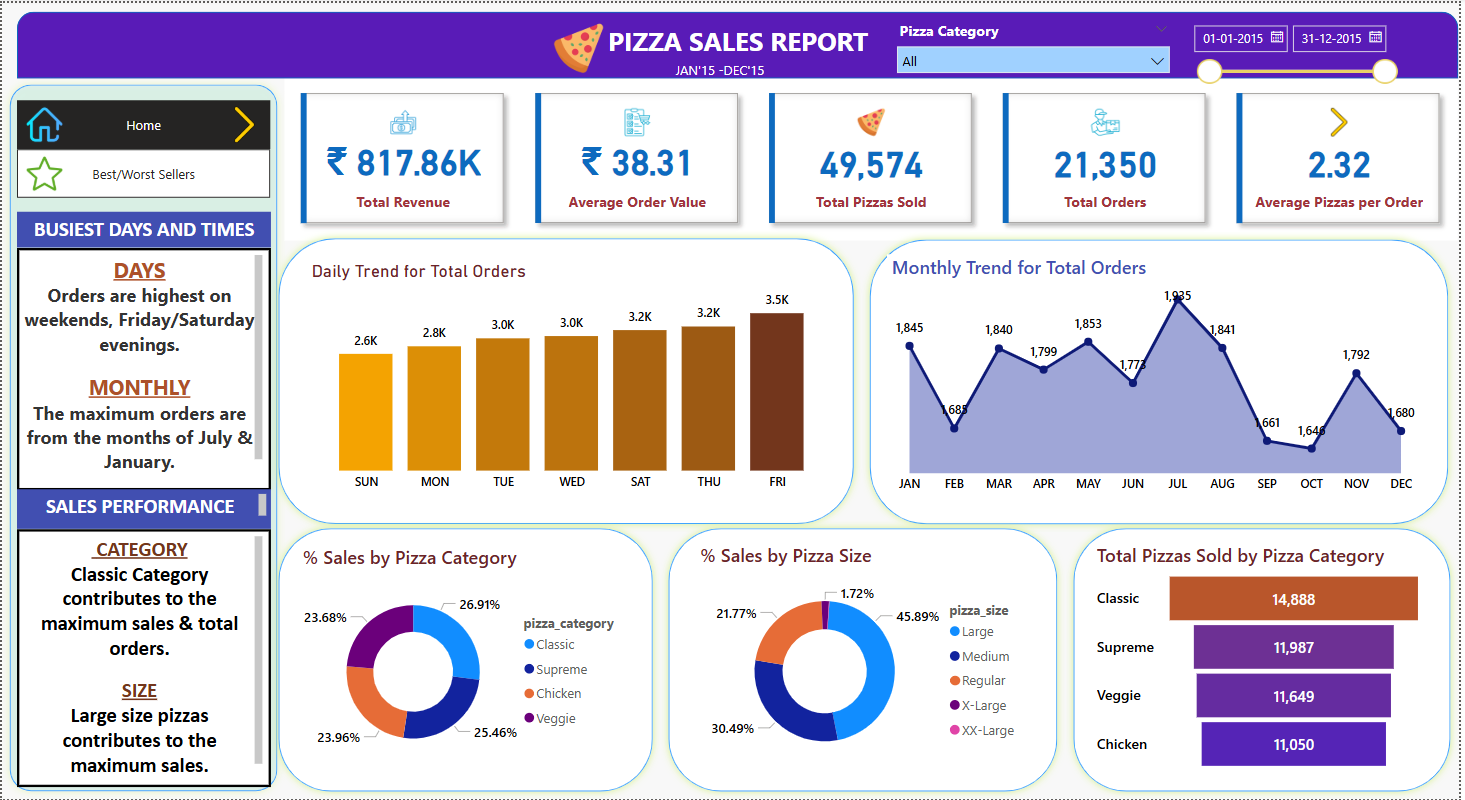

The page's visual inventory and layout, read from the dashboard file:
{"tool":"powerbi","page":{"name":"Home","canvas":[1500,820],"ordinal":0},"visuals":[{"type":"shape","box":[0,76.3,291.6,744],"z":0},{"type":"cardVisual","fields":{"Data":["pizzadb pizza_sales.Total Revenue","pizzadb pizza_sales.Average Order Value","pizzadb pizza_sales.Total Pizzas Sold","pizzadb pizza_sales.Total Orders","pizzadb pizza_sales.Average Pizzas per Order"]},"box":[291.6,76.3,1208.7,169],"z":1000},{"type":"shape","box":[15,8.8,1485,68.8],"z":2000},{"type":"textbox","box":[620,15,354.3,50.4],"z":3000},{"type":"textbox","box":[689.5,55.9,271.2,40.9],"z":4000},{"type":"image","box":[551.9,15,83.1,62.7],"z":5000},{"type":"shape","box":[276.6,234.4,609.1,310.7],"z":6000},{"type":"columnChart","title":"Daily Trend for Total Orders","fields":{"Category":["pizzadb pizza_sales.Order Day"],"Y":["pizzadb pizza_sales.Total Orders"]},"box":[314.8,265.7,546.4,246.6],"z":7000},{"type":"shape","box":[885.7,235.7,611.8,309.3],"z":8000},{"type":"areaChart","title":"Monthly Trend for Total Orders","fields":{"Y":["pizzadb pizza_sales.Total Orders"],"Category":["pizzadb pizza_sales.Order Month"]},"box":[911.6,258.9,553.2,254.8],"z":9000},{"type":"shape","box":[678.6,532.8,417,287.5],"z":10000},{"type":"shape","box":[276.6,532.8,402,287.5],"z":11000},{"type":"shape","box":[1095.6,532.8,404.7,287.5],"z":12000},{"type":"donutChart","title":"% Sales by Pizza Category","fields":{"Category":["pizzadb pizza_sales.pizza_category"],"Y":["pizzadb pizza_sales.Total Revenue"]},"box":[305.2,557.3,346.1,238.5],"z":13000},{"type":"donutChart","title":"% Sales by Pizza Size","fields":{"Category":["pizzadb pizza_sales.pizza_size"],"Y":["pizzadb pizza_sales.Total Revenue"]},"box":[714,556,346.1,239.8],"z":14000},{"type":"funnel","title":"Total Pizzas Sold by Pizza Category","fields":{"Y":["pizzadb pizza_sales.Total Pizzas Sold"],"Category":["pizzadb pizza_sales.pizza_category"]},"box":[1122.8,556,346.1,239.8],"z":15000},{"type":"textbox","box":[15,215.3,261.6,36.8],"z":16000},{"type":"textbox","box":[15,252.1,261.6,249.4],"z":17000},{"type":"textbox","box":[15,501.5,261.6,40.9],"z":18000},{"type":"textbox","box":[15,542.3,261.6,265.7],"z":19000},{"type":"slicer","fields":{"Values":["pizzadb pizza_sales.pizza_category"]},"box":[911.6,12.3,301.1,61.3],"z":20000},{"type":"slicer","fields":{"Values":["pizzadb pizza_sales.order_date"]},"box":[1215.5,12.3,230.3,84.5],"z":21000},{"type":"pageNavigator","box":[15.5,100.4,261.4,50.2],"z":22000},{"type":"pageNavigator","box":[15.5,150.7,261.4,50.2],"z":23000},{"type":"image","box":[225.3,101.7,48.9,47.6],"z":24000},{"type":"image","box":[20.6,100.4,46.4,50.2],"z":25000},{"type":"image","box":[20.6,149.4,46.4,52.8],"z":26000}]}

Visuals, with their boxes in screenshot pixels (x1, y1, x2, y2), scaled from the page's 1500x820 canvas onto the 1465x800 screenshot:
shape: select_region(0, 74, 285, 799)
cardVisual - pizzadb pizza_sales.Total Revenue x pizzadb pizza_sales.Average Order Value: select_region(285, 74, 1464, 239)
shape: select_region(15, 9, 1464, 76)
textbox: select_region(606, 15, 952, 64)
textbox: select_region(673, 55, 938, 94)
image: select_region(539, 15, 620, 76)
shape: select_region(270, 229, 865, 532)
"Daily Trend for Total Orders" columnChart: select_region(307, 259, 841, 500)
shape: select_region(865, 230, 1463, 532)
"Monthly Trend for Total Orders" areaChart: select_region(890, 253, 1431, 501)
shape: select_region(663, 520, 1070, 799)
shape: select_region(270, 520, 663, 799)
shape: select_region(1070, 520, 1464, 799)
"% Sales by Pizza Category" donutChart: select_region(298, 544, 636, 776)
"% Sales by Pizza Size" donutChart: select_region(697, 542, 1035, 776)
"Total Pizzas Sold by Pizza Category" funnel: select_region(1097, 542, 1435, 776)
textbox: select_region(15, 210, 270, 246)
textbox: select_region(15, 246, 270, 489)
textbox: select_region(15, 489, 270, 529)
textbox: select_region(15, 529, 270, 788)
slicer - pizzadb pizza_sales.pizza_category: select_region(890, 12, 1184, 72)
slicer - pizzadb pizza_sales.order_date: select_region(1187, 12, 1412, 94)
pageNavigator: select_region(15, 98, 270, 147)
pageNavigator: select_region(15, 147, 270, 196)
image: select_region(220, 99, 268, 146)
image: select_region(20, 98, 65, 147)
image: select_region(20, 146, 65, 197)
